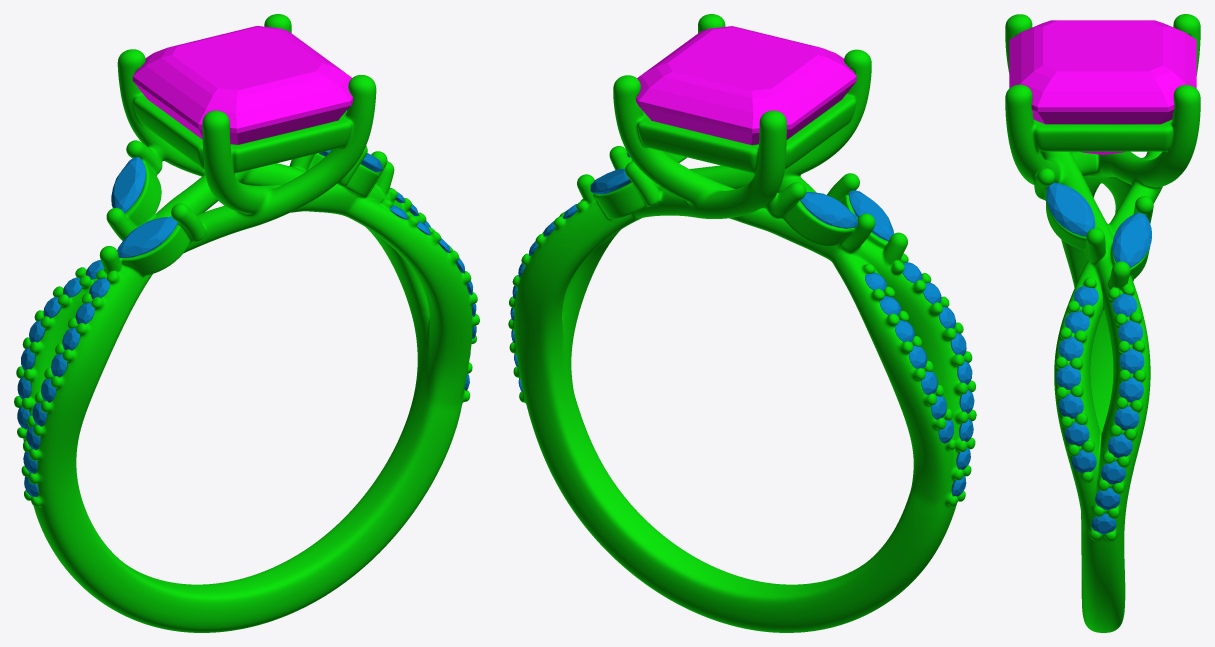
The model's file is BE104BS_AS_200ct_RENDER.glb.
The picture shows the model from 3 angles, left to right: view 1: azimuth 30°, elevation 25°; view 2: azimuth 150°, elevation 25°; view 3: azimuth 270°, elevation 25°; orthographic projection.
Parts seen in each view (by area): view 1: Metal 01, CS_Diamond_Asscher, Sapphire_Blue.001, Sapphire_Blue; view 2: Metal 01, CS_Diamond_Asscher, Sapphire_Blue, Sapphire_Blue.001, Sapphire_Blue.003; view 3: Metal 01, CS_Diamond_Asscher, Sapphire_Blue.002, Sapphire_Blue.003, Diamond_Round_Gem_SH.027, Diamond_Round_Gem_SH.028, Diamond_Round_Gem_SH.029, Diamond_Round_Gem_SH.026, Diamond_Round_Gem_SH.021, Diamond_Round_Gem_SH.025, Diamond_Round_Gem_SH.020, Diamond_Round_Gem_SH.022 (+8 smaller).
Part boxes in pixels (x1,y1,x2,y2): Metal 01: (14, 14, 479, 632); CS_Diamond_Asscher: (132, 26, 353, 144); Sapphire_Blue.001: (117, 216, 177, 257); Sapphire_Blue: (111, 157, 145, 213); Metal 01: (508, 14, 976, 632); CS_Diamond_Asscher: (636, 26, 856, 144); Sapphire_Blue: (800, 192, 857, 228); Sapphire_Blue.001: (848, 190, 893, 241); Sapphire_Blue.003: (590, 168, 631, 194); Metal 01: (1005, 14, 1200, 632); CS_Diamond_Asscher: (1009, 20, 1196, 154); Sapphire_Blue.002: (1046, 182, 1095, 236); Sapphire_Blue.003: (1112, 212, 1151, 267); Diamond_Round_Gem_SH.027: (1119, 377, 1143, 402); Diamond_Round_Gem_SH.028: (1119, 348, 1144, 373); Diamond_Round_Gem_SH.029: (1056, 365, 1080, 389); Diamond_Round_Gem_SH.026: (1058, 394, 1083, 418); Diamond_Round_Gem_SH.021: (1114, 406, 1139, 430); Diamond_Round_Gem_SH.025: (1064, 422, 1089, 446); Diamond_Round_Gem_SH.020: (1108, 434, 1132, 457); Diamond_Round_Gem_SH.022: (1118, 320, 1143, 344).
Bounding box in the file's own units: 20.63 × 24.88 × 7.83.
